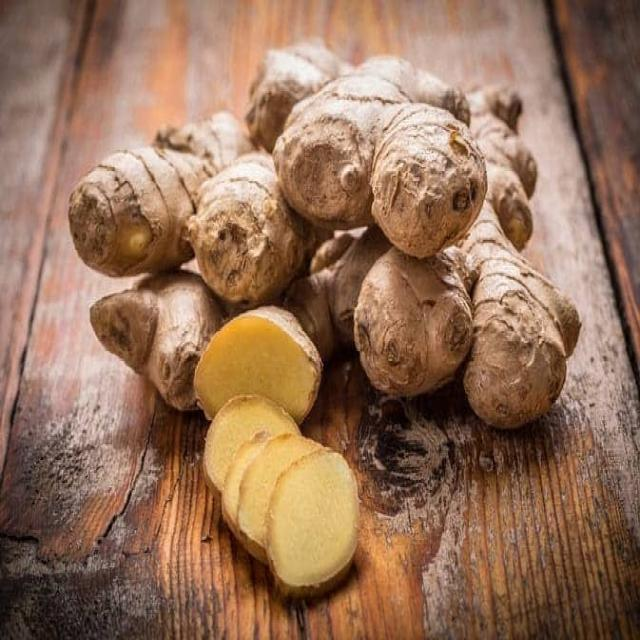ginger: (272, 58, 485, 256), (459, 112, 579, 426), (67, 110, 249, 275), (186, 155, 329, 303), (352, 248, 471, 396), (68, 146, 198, 275)
